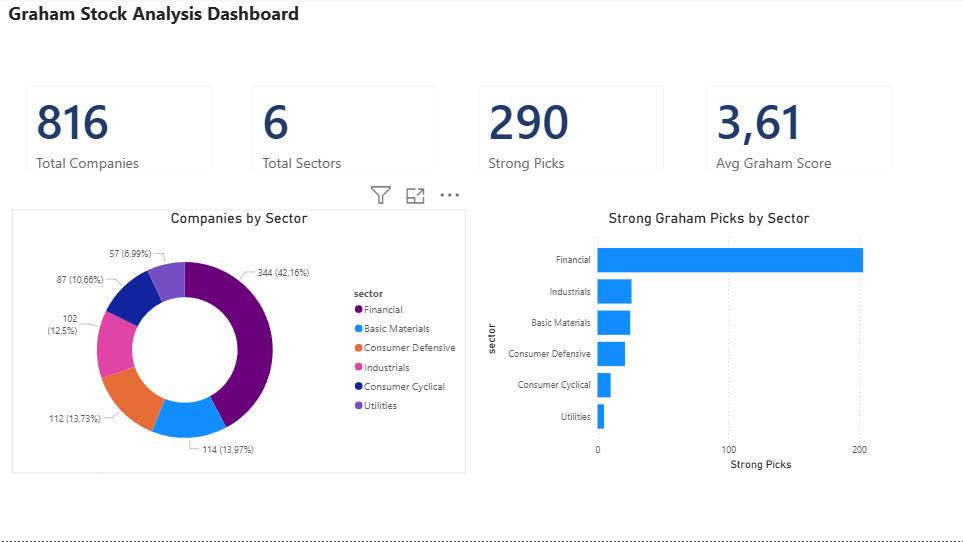

Layout of this report page (visuals, bound fields, positions):
{"tool":"powerbi","page":{"name":"Executive Summary","canvas":[1280,720],"ordinal":0},"visuals":[{"type":"textbox","box":[9.7,0,783.1,50.4],"z":0},{"type":"cardVisual","fields":{"Data":["graham_stocks stock_fundamentals.Total Companies"]},"box":[20.7,100.1,279.6,147.7],"z":1},{"type":"cardVisual","fields":{"Data":["graham_stocks stock_fundamentals.Avg Graham Score"]},"box":[920,100,279.6,147.7],"z":2},{"type":"cardVisual","fields":{"Data":["graham_stocks stock_fundamentals.Strong Picks"]},"box":[620,100,279.6,147.7],"z":3},{"type":"cardVisual","fields":{"Data":["graham_stocks stock_fundamentals.Total Sectors"]},"box":[320,100,279.6,147.7],"z":4},{"type":"donutChart","title":"Companies by Sector","fields":{"Category":["graham_stocks stock_fundamentals.sector"],"Y":["graham_stocks stock_fundamentals.Total Companies"]},"box":[20,280,600,350],"z":5},{"type":"barChart","title":"Strong Graham Picks by Sector","fields":{"Category":["graham_stocks stock_fundamentals.sector"],"Y":["graham_stocks stock_fundamentals.Strong Picks"]},"box":[640,280,600,350],"z":6}]}

Visuals, with their boxes in screenshot pixels (x1, y1, x2, y2), scaled from the page's 1280x720 canvas onto the 963x542 screenshot:
textbox: select_region(7, 0, 596, 38)
cardVisual - graham_stocks stock_fundamentals.Total Companies: select_region(16, 75, 226, 187)
cardVisual - graham_stocks stock_fundamentals.Avg Graham Score: select_region(692, 75, 903, 186)
cardVisual - graham_stocks stock_fundamentals.Strong Picks: select_region(466, 75, 677, 186)
cardVisual - graham_stocks stock_fundamentals.Total Sectors: select_region(241, 75, 451, 186)
"Companies by Sector" donutChart: select_region(15, 211, 466, 474)
"Strong Graham Picks by Sector" barChart: select_region(482, 211, 933, 474)
